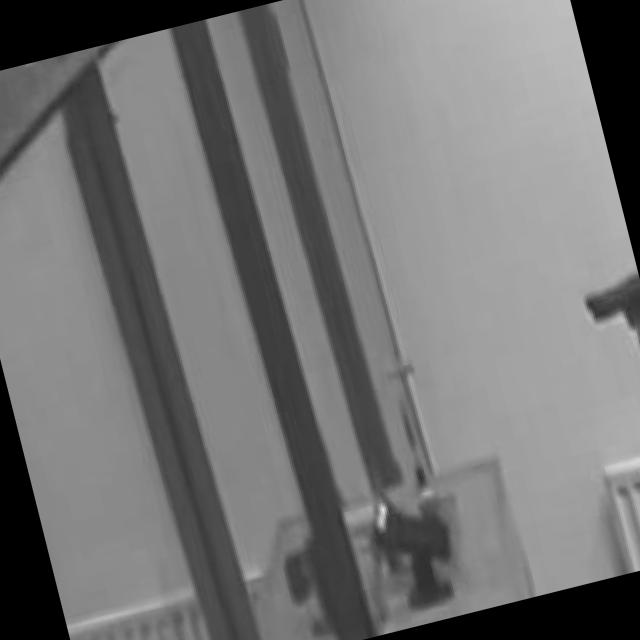Guns: (563, 239, 640, 364)
